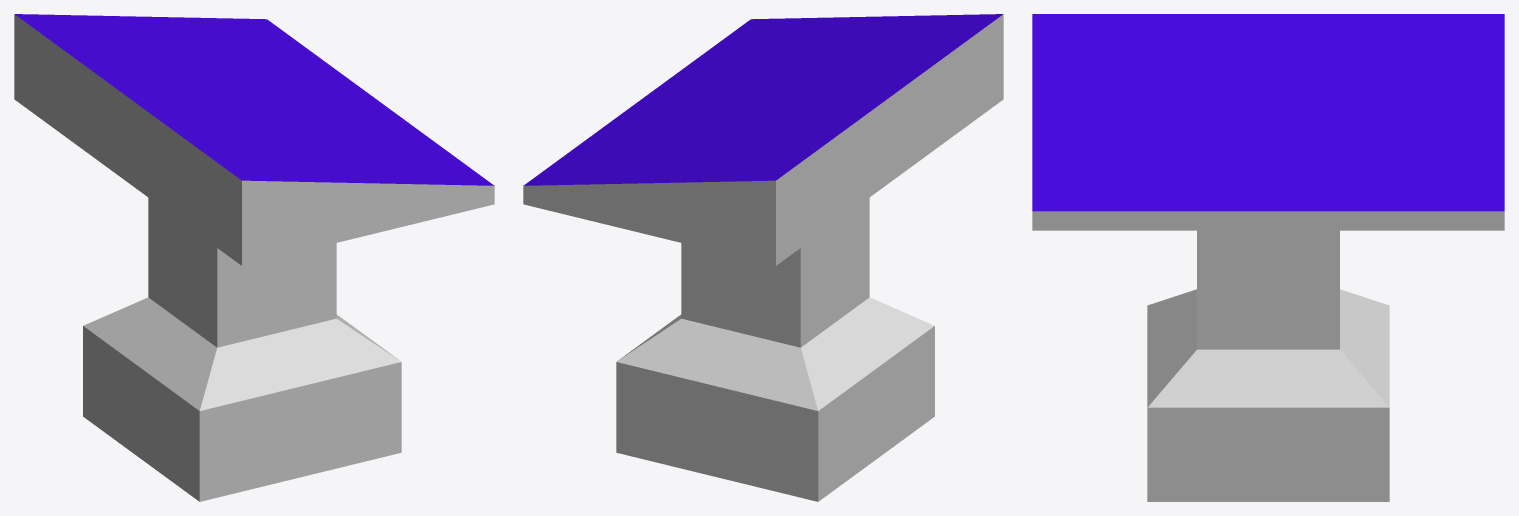
File: pannel.fbx
The picture shows the model from 3 angles, left to right: view 1: azimuth 30°, elevation 25°; view 2: azimuth 150°, elevation 25°; view 3: azimuth 270°, elevation 25°; orthographic projection. The views are drawn at different scales.
Parts seen in each view (by area): view 1: Cube; view 2: Cube; view 3: Cube.
Part boxes in pixels (x1,y1,x2,y2): Cube: (14, 14, 494, 501); Cube: (523, 14, 1003, 501); Cube: (1032, 14, 1504, 501).
Size of the model in its own units: 86.1 by 119 by 134.
